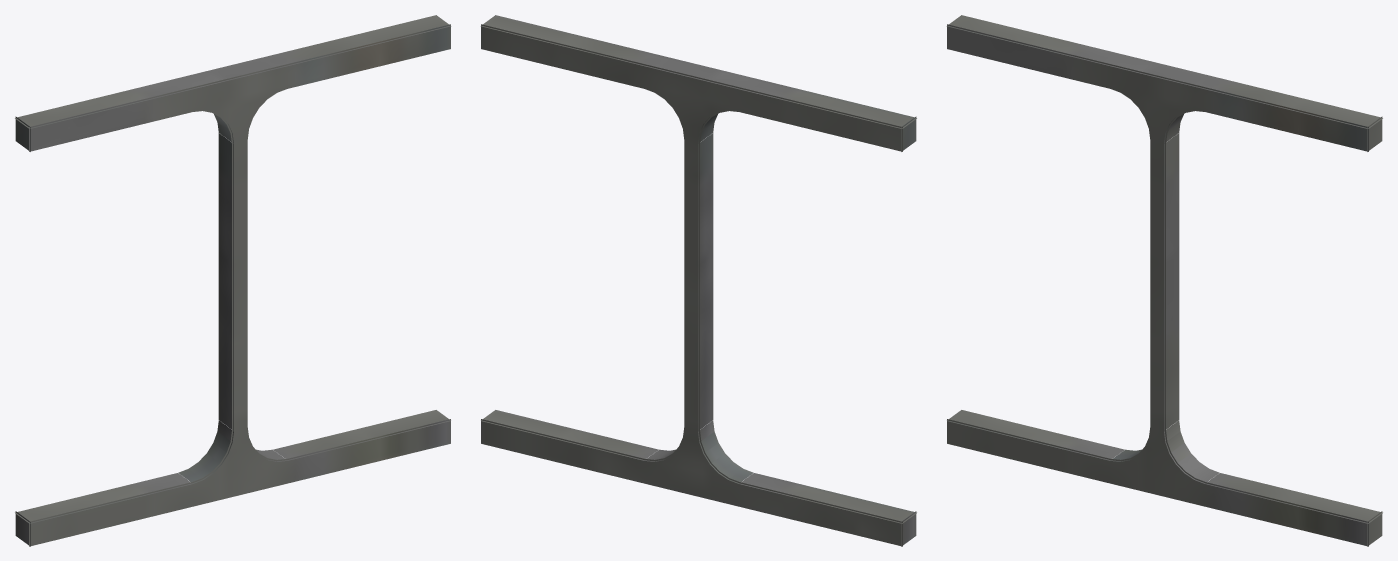
Rendered from HEA160.glb.
3 views of the same model, side by side, from view 1: azimuth 30°, elevation 25°; view 2: azimuth 150°, elevation 25°; view 3: azimuth 330°, elevation 25° (orthographic).
Size of the model in its own units: 16 by 15.2 by 1.
Materials: 1 (1 with a texture image).
